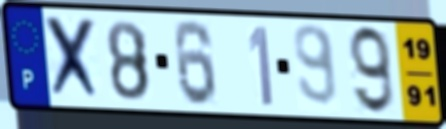1: (246, 24, 275, 109)
6: (172, 17, 220, 109)
8: (104, 19, 153, 103)
9: (347, 23, 396, 117), (292, 21, 340, 114)
X: (42, 13, 105, 104)
